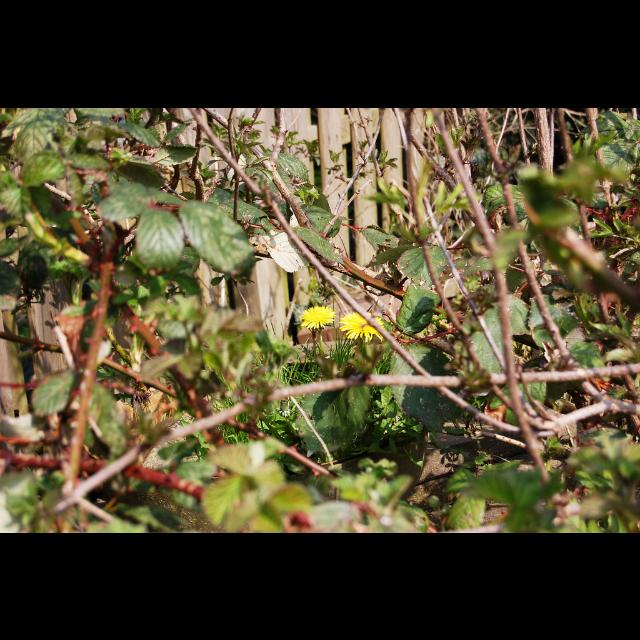Flower: (336, 308, 386, 340), (301, 303, 333, 331)
